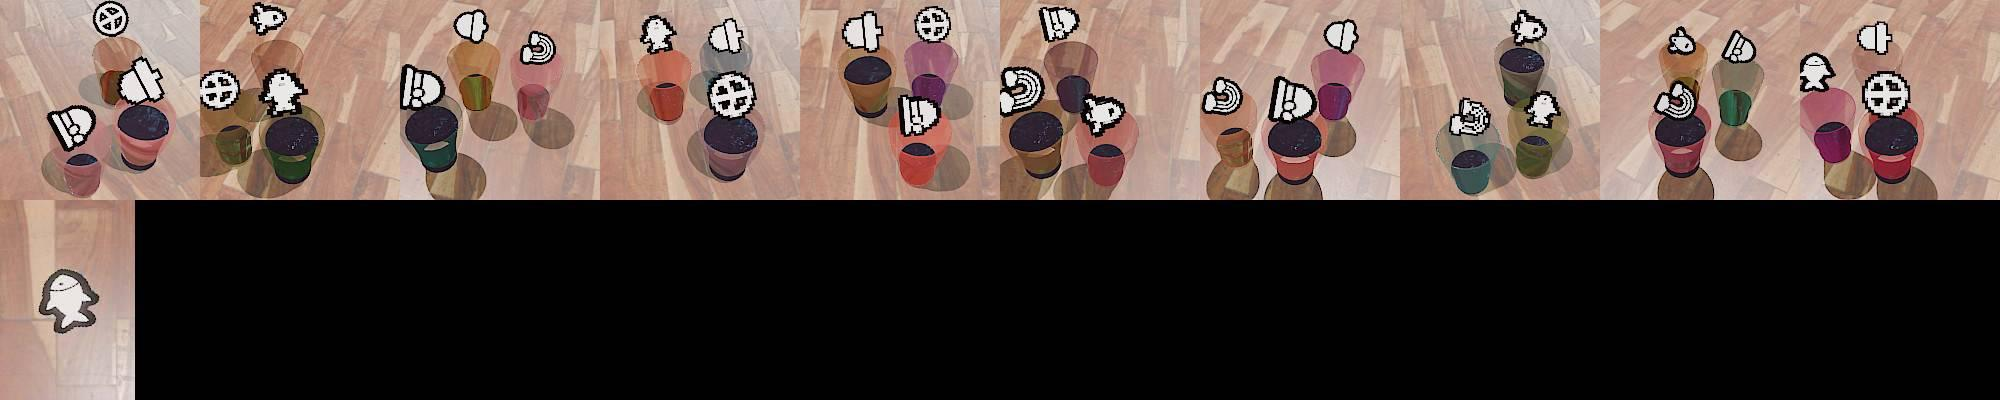icon: (29, 262, 103, 339), (1267, 74, 1318, 125), (258, 68, 310, 117), (707, 71, 759, 120), (116, 56, 166, 106), (46, 103, 97, 152), (1861, 71, 1912, 118), (999, 66, 1045, 116), (398, 64, 444, 111), (1080, 93, 1126, 139), (898, 92, 940, 136), (1653, 80, 1699, 121), (842, 10, 883, 54), (1446, 96, 1489, 136), (199, 69, 241, 110), (1797, 51, 1837, 93), (1038, 5, 1079, 45), (638, 14, 677, 55), (1202, 75, 1240, 117), (913, 5, 952, 45), (1522, 90, 1562, 127), (708, 17, 746, 55), (1510, 9, 1547, 47), (1719, 28, 1758, 65), (247, 3, 288, 37), (92, 1, 129, 38), (1323, 18, 1361, 54), (519, 29, 557, 65), (1857, 20, 1894, 56), (453, 9, 489, 45), (1667, 25, 1696, 55)
